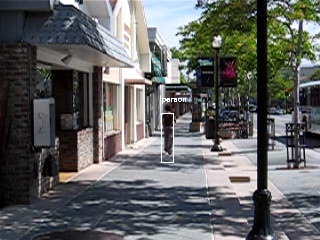person: (161, 106, 178, 157), (160, 106, 177, 157), (162, 106, 179, 157), (161, 105, 178, 156), (161, 107, 178, 158)
target_negative: (149, 52, 237, 197), (83, 106, 109, 190), (46, 121, 239, 132), (246, 144, 309, 162), (179, 69, 186, 142), (310, 141, 320, 169)
